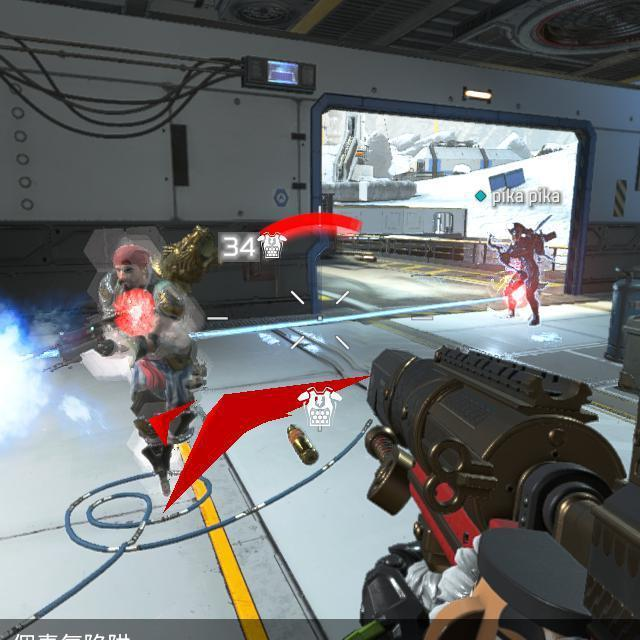avatar: (97, 224, 209, 498), (486, 221, 557, 326)
object: (113, 288, 156, 337), (502, 282, 529, 309)
